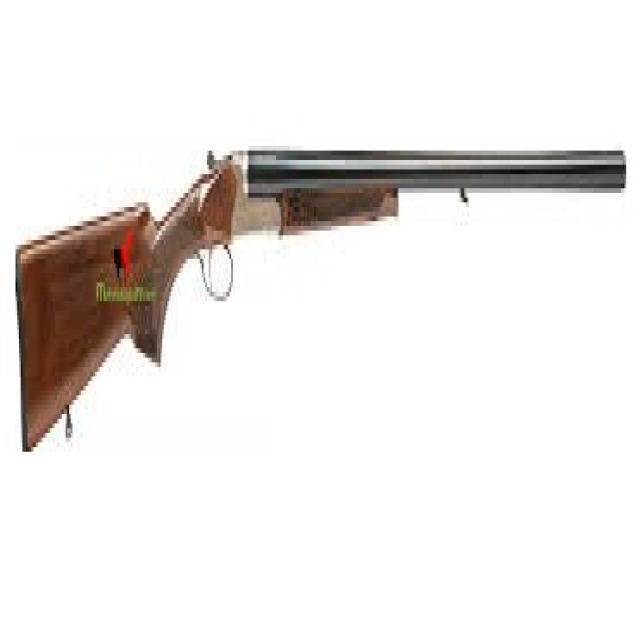rifle: (8, 125, 630, 462)
